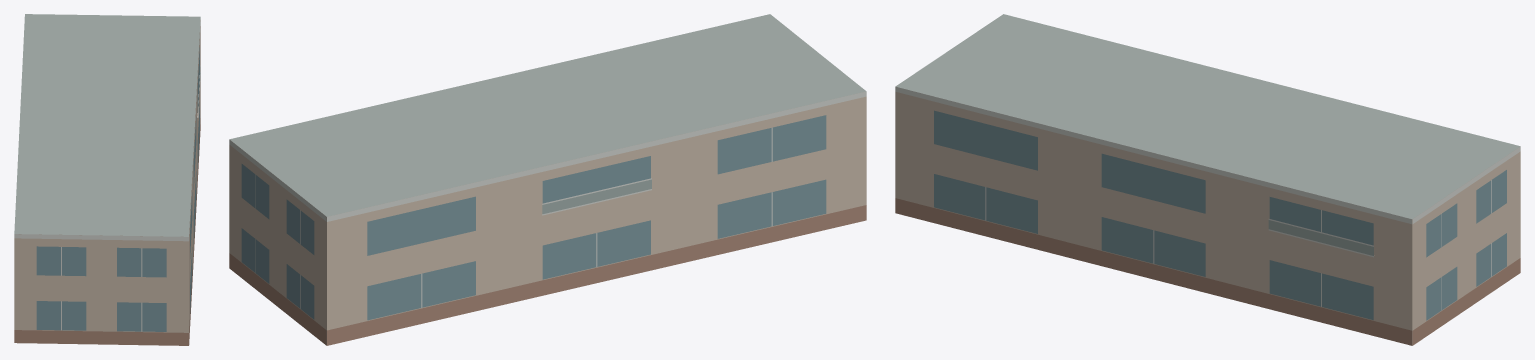
The model's file is survey-upis-32518643.glb.
3 renders of one model, left to right at view 1: azimuth 30°, elevation 25°; view 2: azimuth 150°, elevation 25°; view 3: azimuth 270°, elevation 25°, orthographic. The views are drawn at different scales.
Visible parts, largest first — view 1: survey-upis-32518643.tmp; view 2: survey-upis-32518643.tmp; view 3: survey-upis-32518643.tmp.
Boxes of the visible parts, x1,y1,x2,y2 form: survey-upis-32518643.tmp: (14, 14, 200, 345); survey-upis-32518643.tmp: (229, 14, 866, 345); survey-upis-32518643.tmp: (895, 14, 1520, 345).
Bounding box in the file's own units: 21.23 × 6.1 × 27.33.
